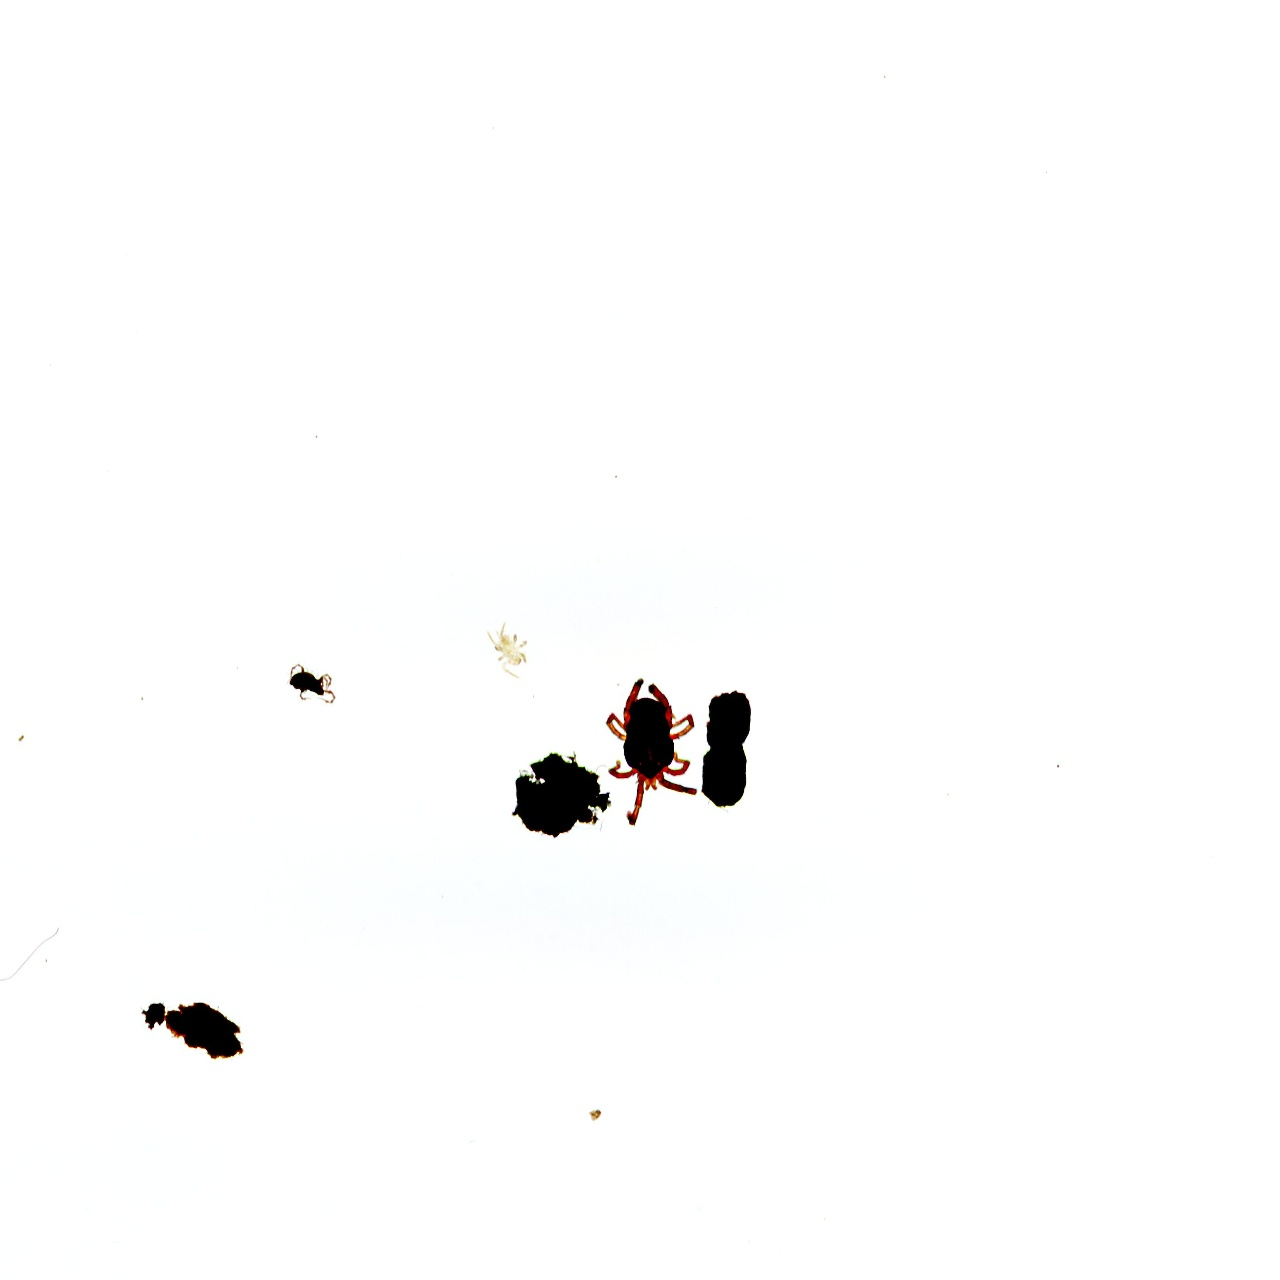arthropod: (604, 676, 698, 828), (478, 613, 543, 685), (286, 662, 337, 705)
